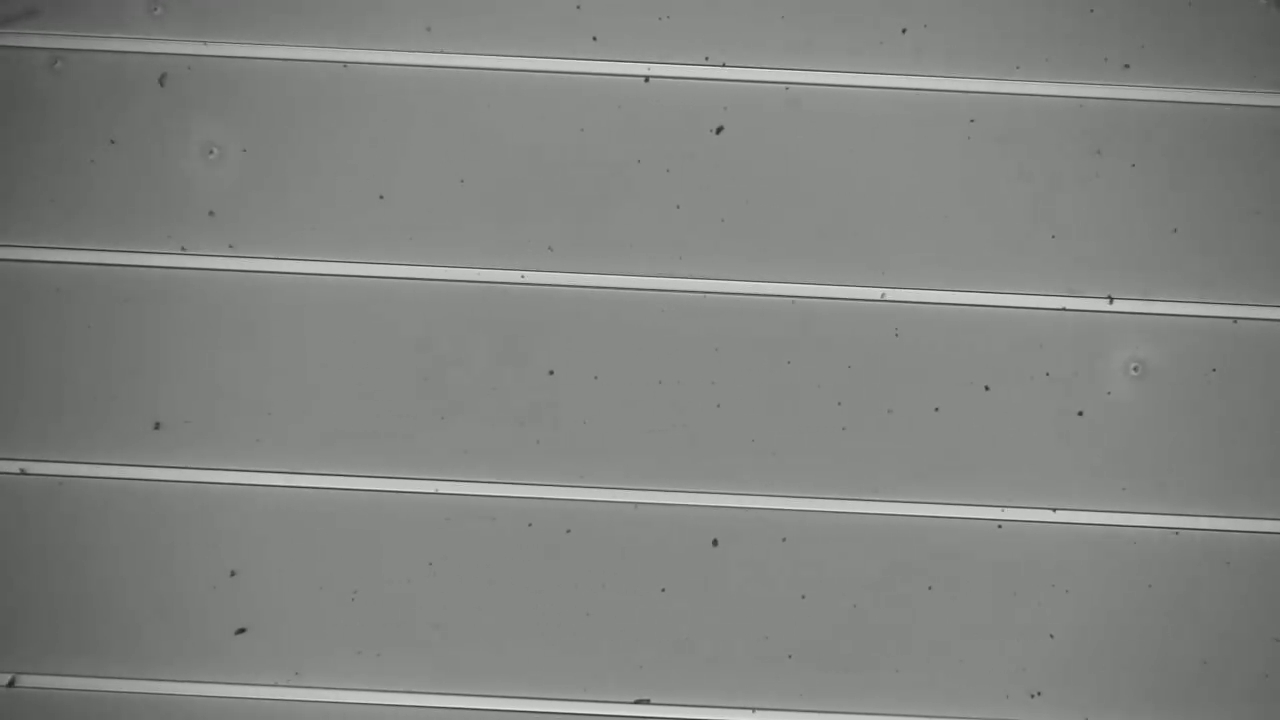stains_enbedded: (1, 664, 28, 698)
